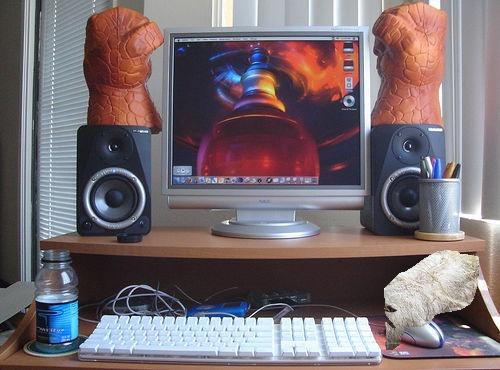tampered: (371, 251, 479, 350)
